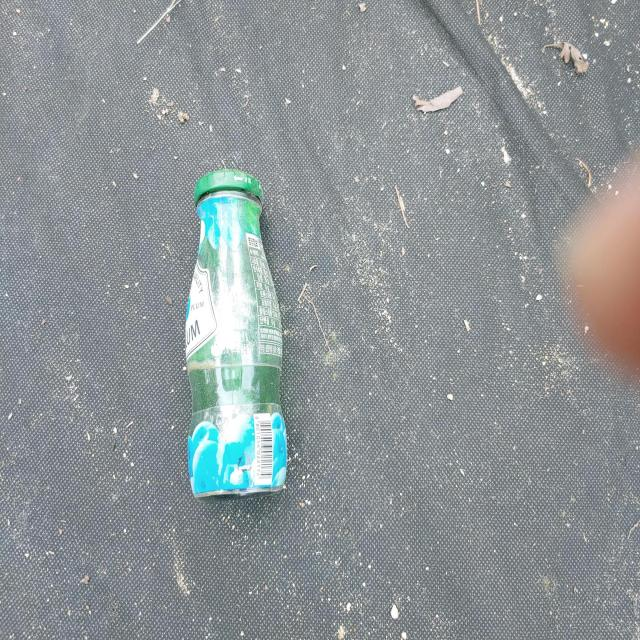glass: (185, 170, 287, 498)
